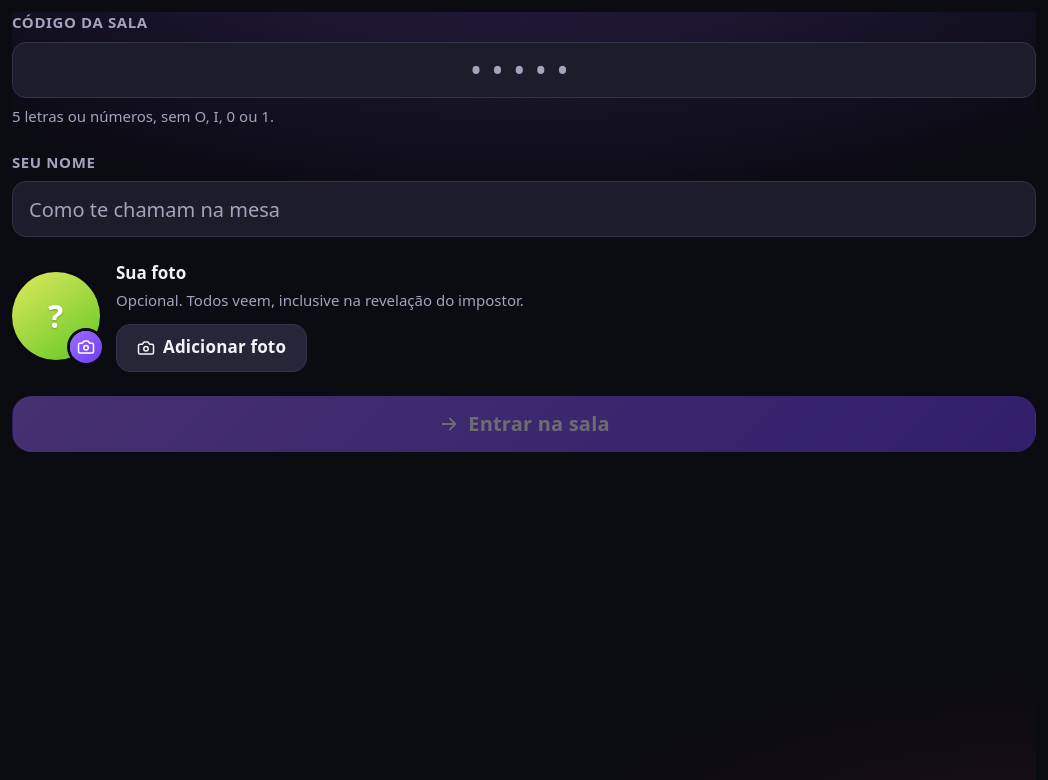
Test case: JoinRoomForm › keeps only valid code characters and waits for a complete code
Type "Bia" into the field labelled "Seu nome". click: (524, 209)
box: [12, 181, 1036, 237]
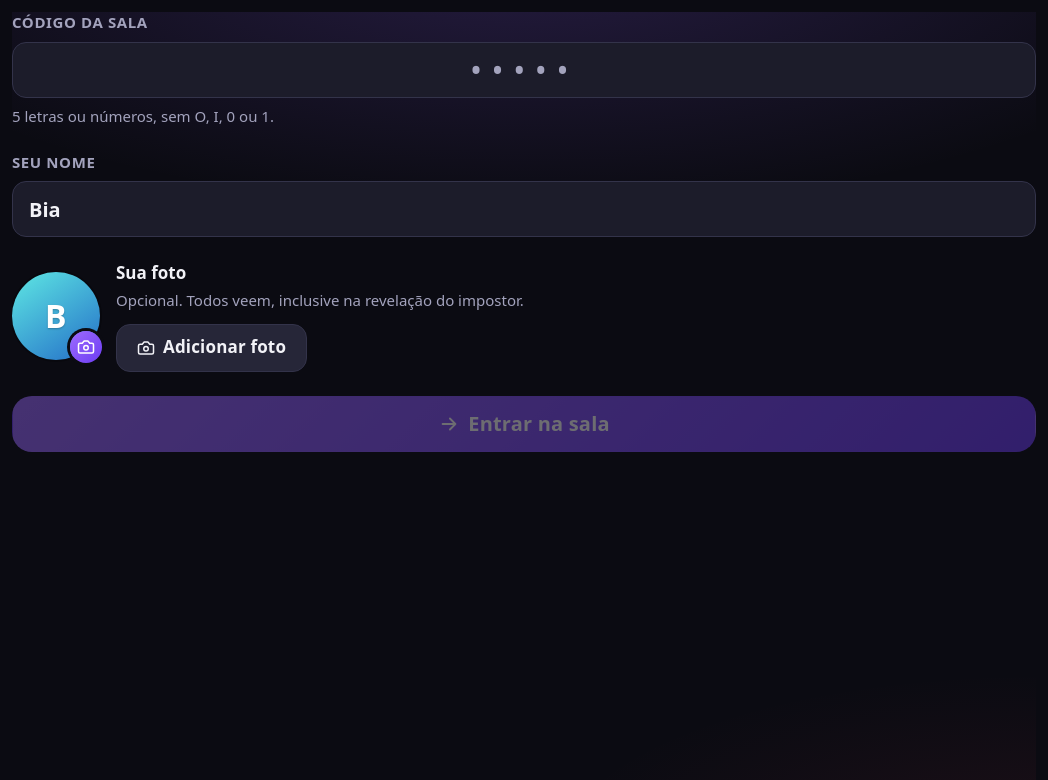
Type "k7-m2" into the field labelled "Código da sala". click: (524, 70)
box: [12, 42, 1036, 98]
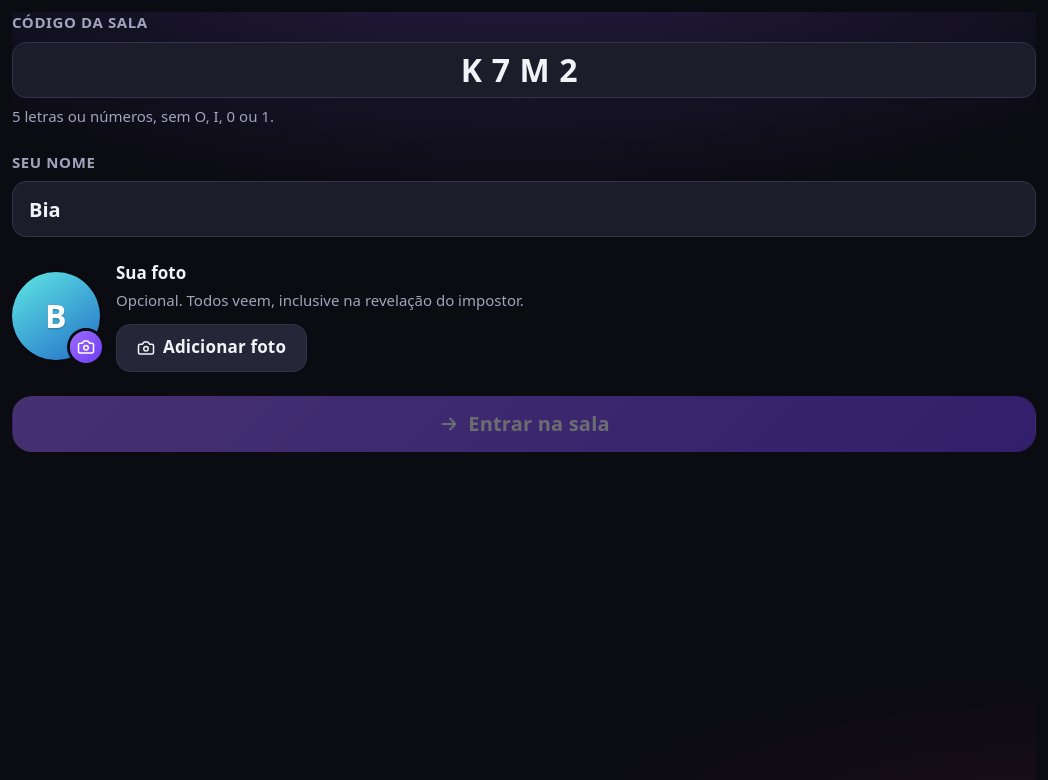
Check: the button "Entrar na sala" is disabled, box [12, 396, 1036, 452]
Check: the field labelled "Código da sala" holds "K7M2"
Replace the text in the field labelled "Código da sala" with "k7m2p". click: (524, 70)
box: [12, 42, 1036, 98]
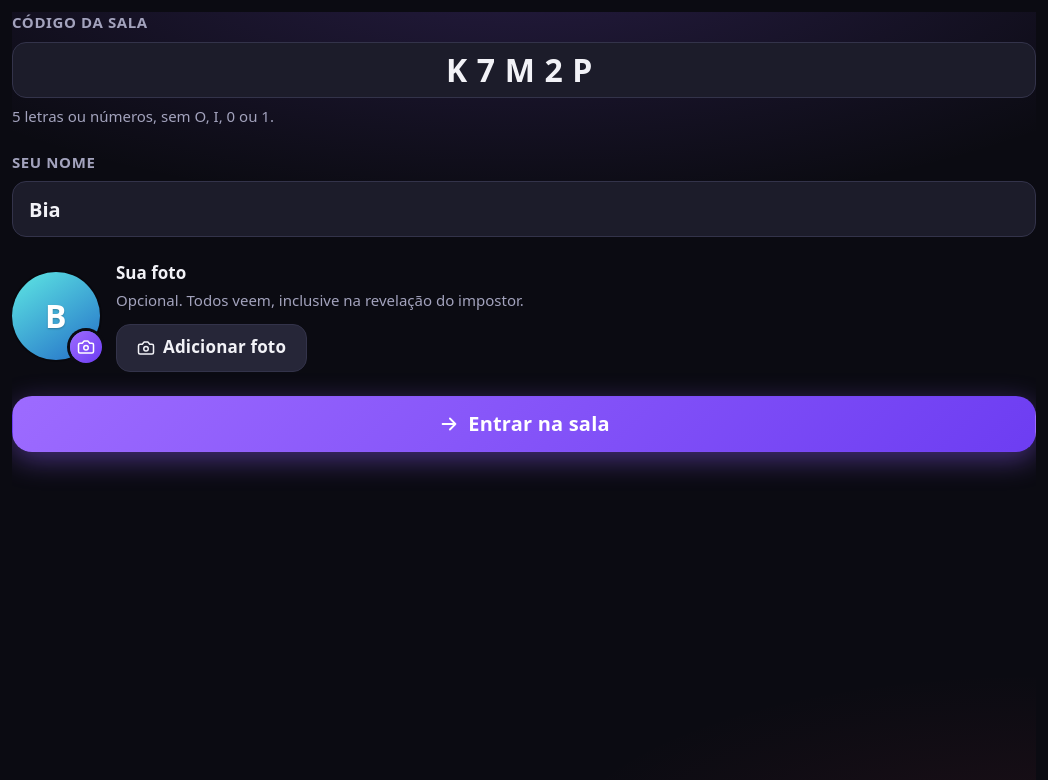
Check: the button "Entrar na sala" is enabled, box [12, 396, 1036, 452]
